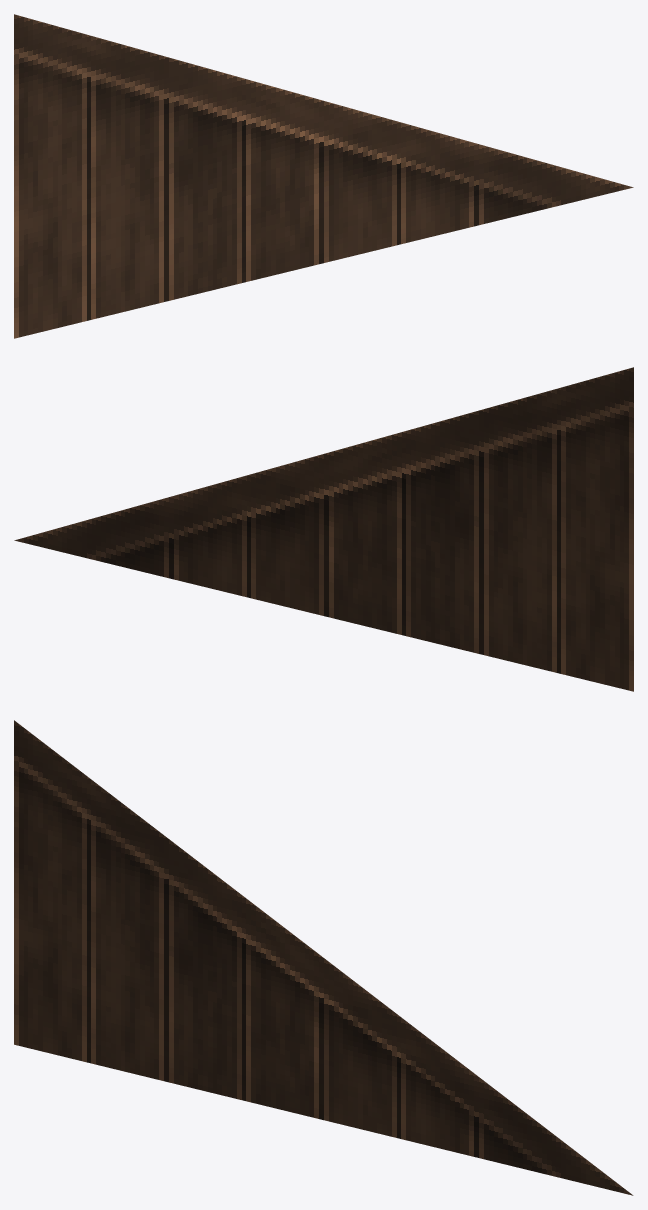
The model's file is house_side_roof_1.glb.
3 views of the same model, one above another, from view 1: azimuth 30°, elevation 25°; view 2: azimuth 150°, elevation 25°; view 3: azimuth 330°, elevation 25° (orthographic).
Parts seen in each view (by area): view 1: house_side_roof_1; view 2: house_side_roof_1; view 3: house_side_roof_1.
Boxes of the visible parts, x1,y1,x2,y2 form: house_side_roof_1: (14, 14, 633, 338); house_side_roof_1: (14, 367, 633, 691); house_side_roof_1: (14, 720, 633, 1195).
Bounding box in the file's own units: 2 × 1 × 0.
1 material, 1 textured.
